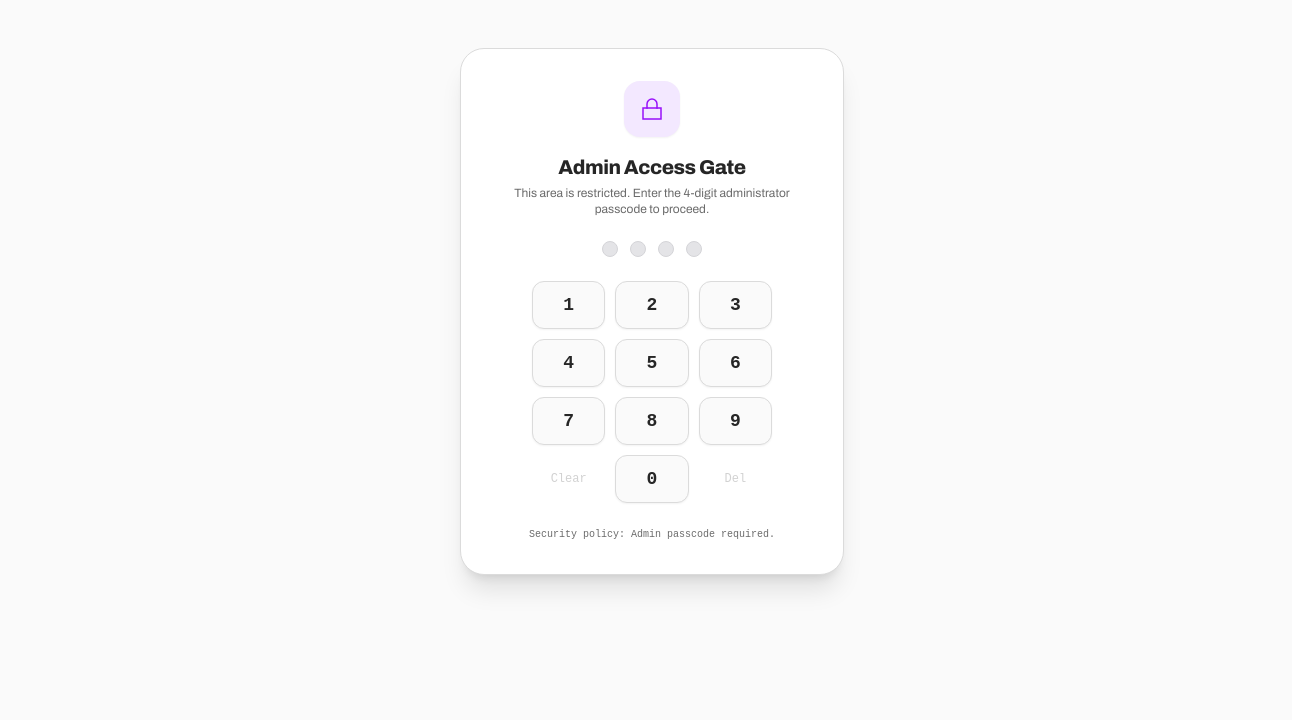
it: Double Security Scan: Authentication, PIN Gate & Data Hygiene › Scan 1: Admin Passcode '0000' & Access Control Gate › unlocks access immediately when passcode '0000' is entered
Click the button "0" at (652, 479), box [615,455,689,503]
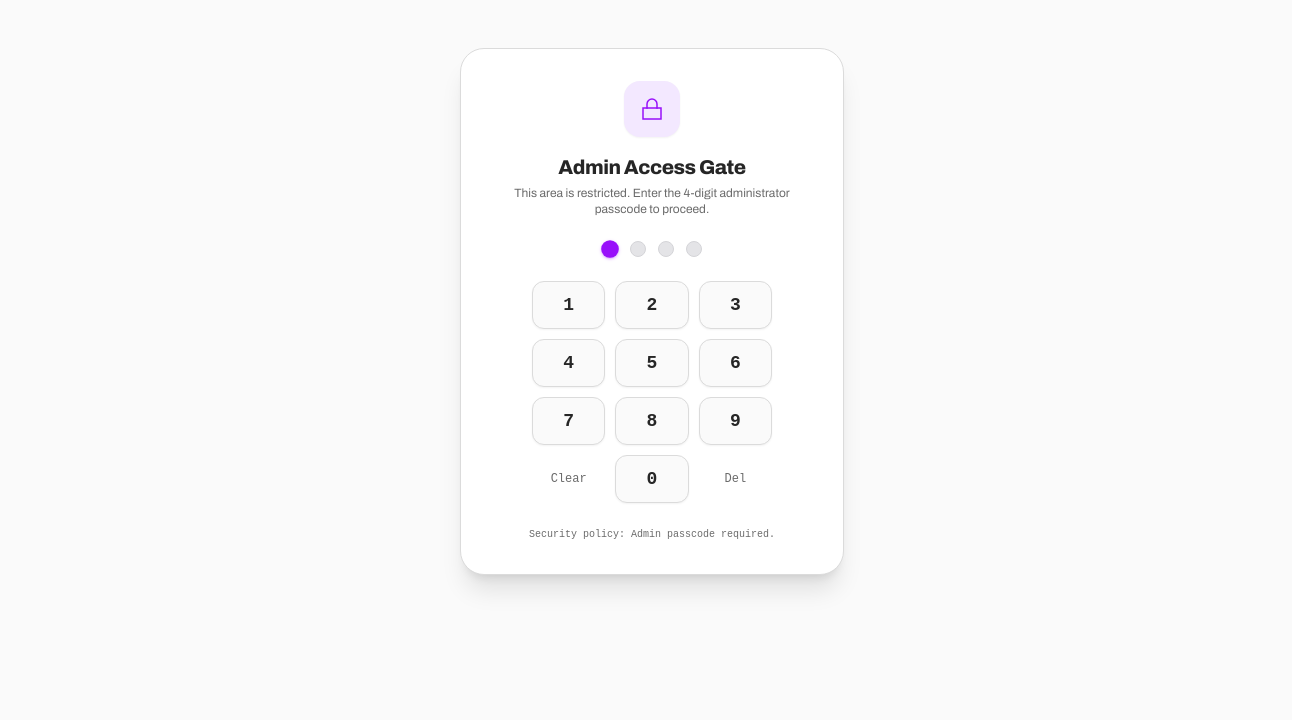
Click the button "0" at (652, 479), box [615,455,689,503]
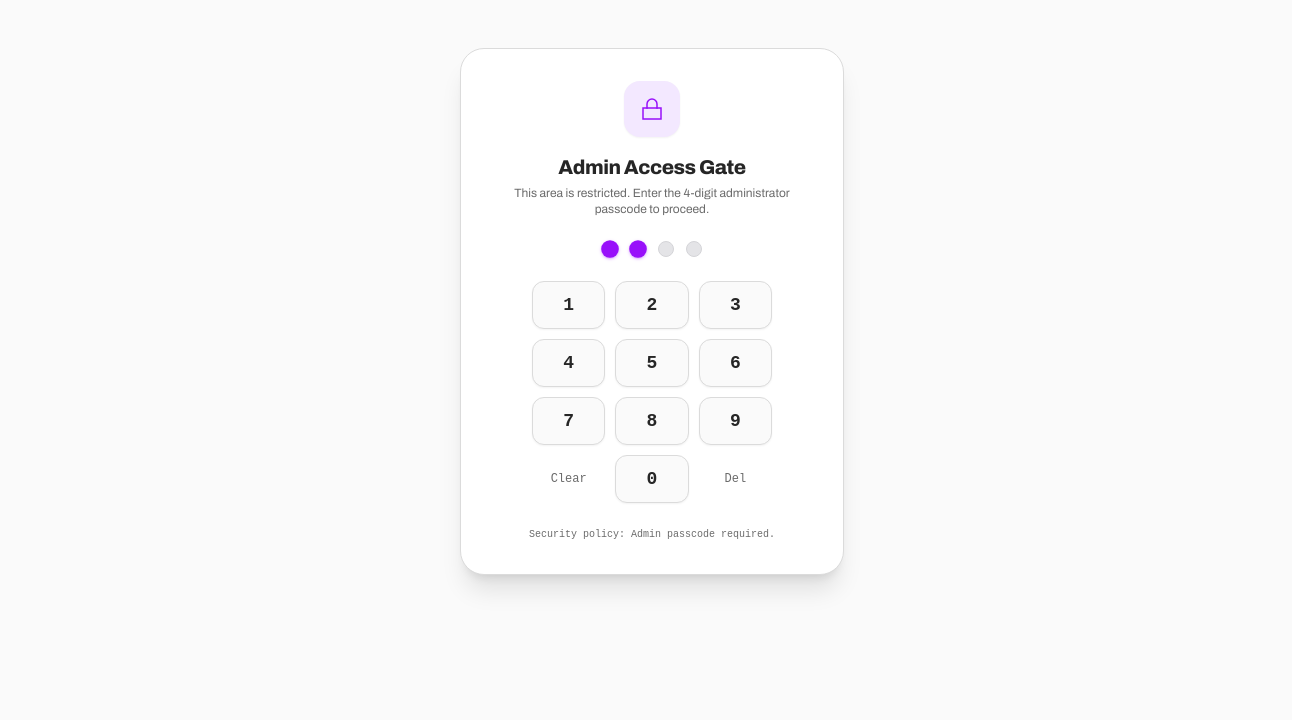
Click the button "0" at (652, 479), box [615,455,689,503]
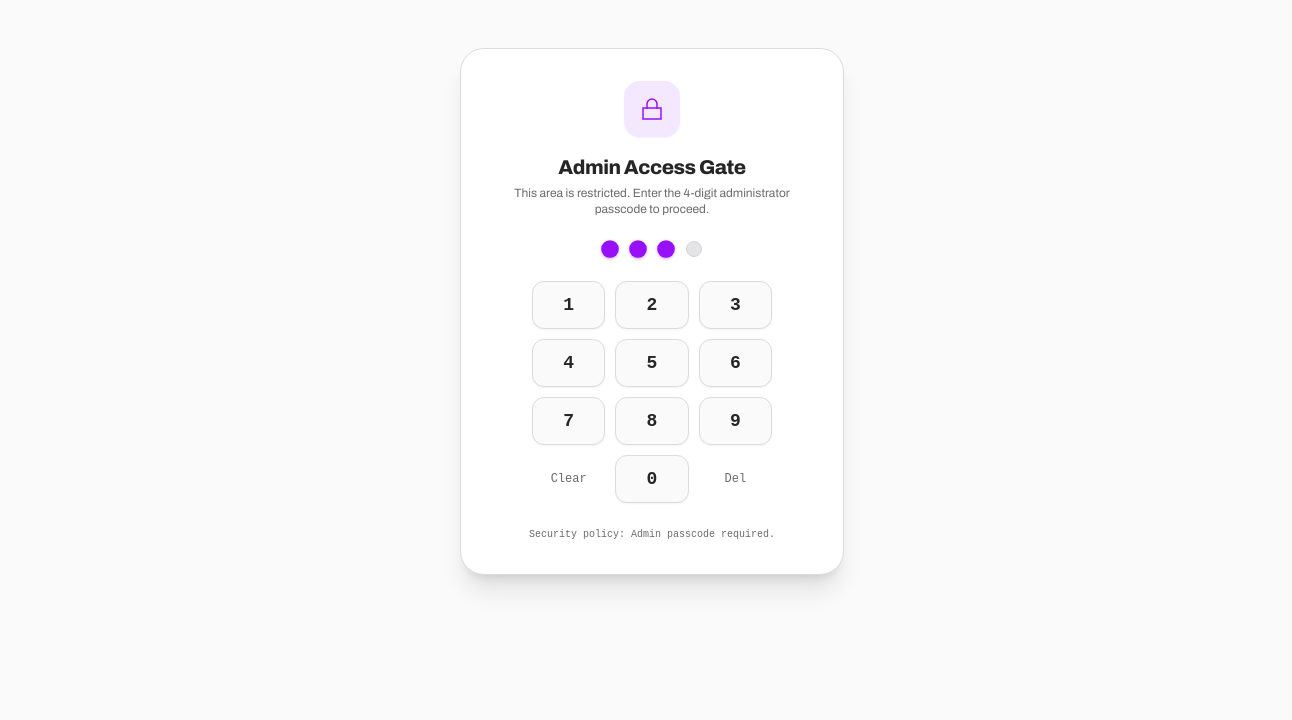
Click the button "0" at (652, 479), box [615,455,689,503]
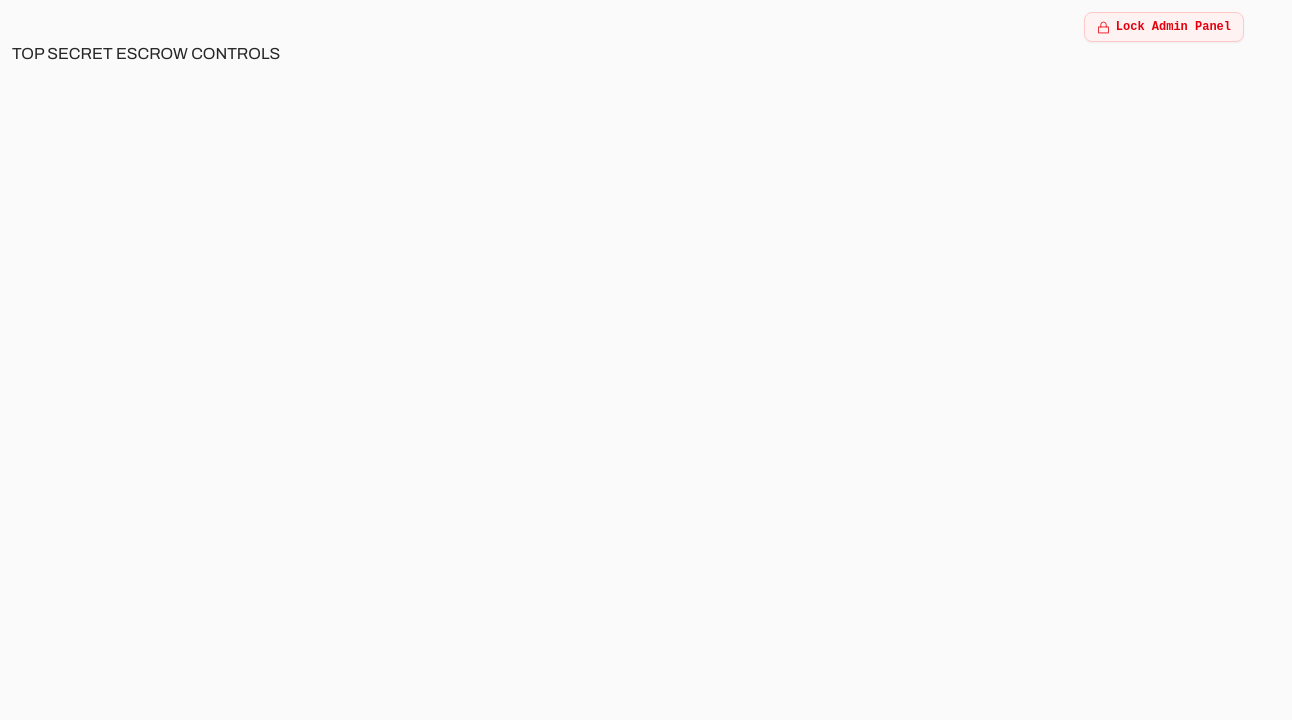
Result: the text "TOP SECRET ESCROW CONTROLS" is shown at [12,45,280,62]
Result: the text "Lock Admin Panel" is shown at [1116,19,1231,35]
